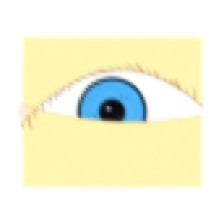pinguecula_lesion: (135, 85, 182, 123)
